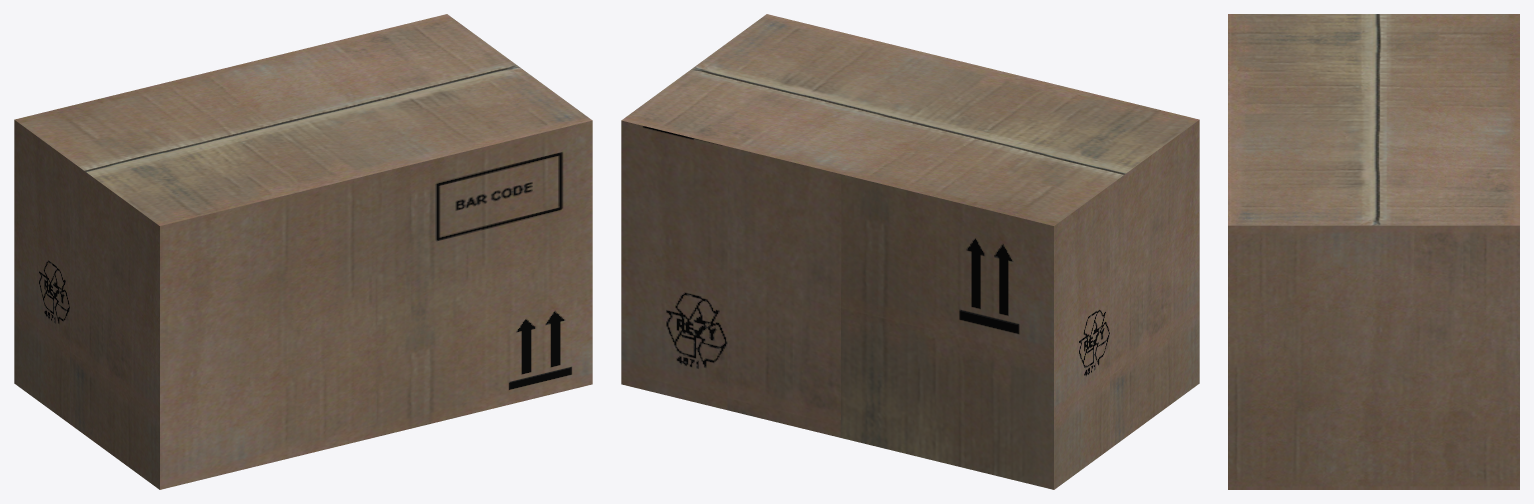
File: warehouse_box_1.fbx
The picture shows the model from 3 angles, left to right: view 1: azimuth 30°, elevation 25°; view 2: azimuth 150°, elevation 25°; view 3: azimuth 270°, elevation 25°; orthographic projection.
Visible parts, largest first — view 1: box1; view 2: box1; view 3: box1.
Part boxes in pixels (x1,y1,x2,y2): box1: [14, 14, 592, 489]; box1: [621, 14, 1199, 489]; box1: [1228, 14, 1519, 489].
Size of the model in its own units: 143 by 83 by 83.
